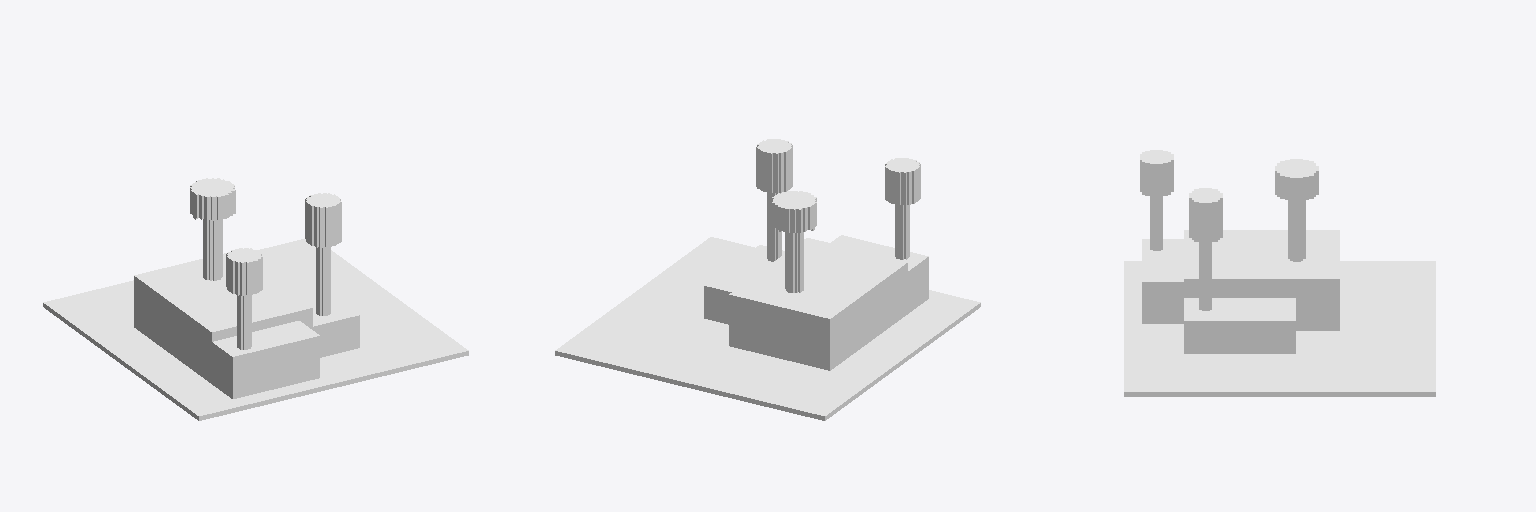
The model's file is palude.obj.
3 views of the same model, side by side, from view 1: azimuth 30°, elevation 25°; view 2: azimuth 150°, elevation 25°; view 3: azimuth 270°, elevation 25° (orthographic).
Size of the model in its own units: 120 by 64 by 120.